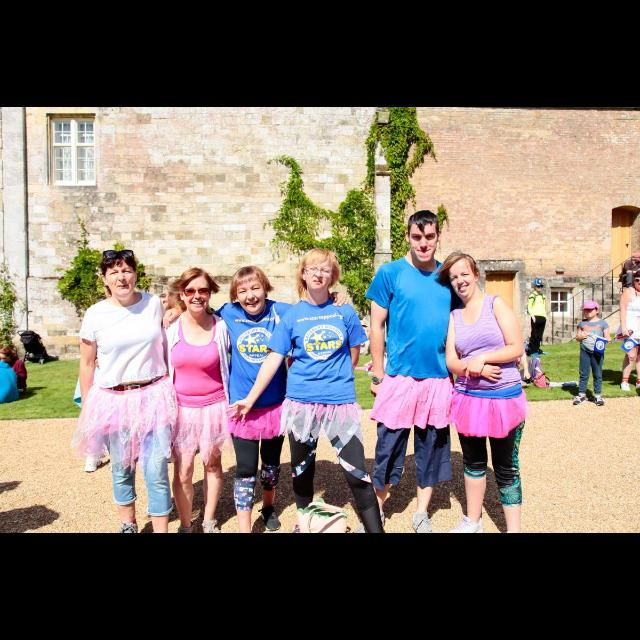head: (406, 210, 442, 264), (232, 266, 268, 318), (100, 253, 140, 299), (447, 252, 481, 302), (300, 248, 336, 292), (180, 268, 213, 314), (584, 301, 600, 319), (0, 348, 14, 364), (534, 280, 544, 292), (510, 336, 520, 346), (0, 348, 6, 362)
person: (568, 299, 614, 405), (490, 326, 550, 392), (522, 277, 552, 361), (1, 345, 32, 401), (0, 347, 24, 405)
